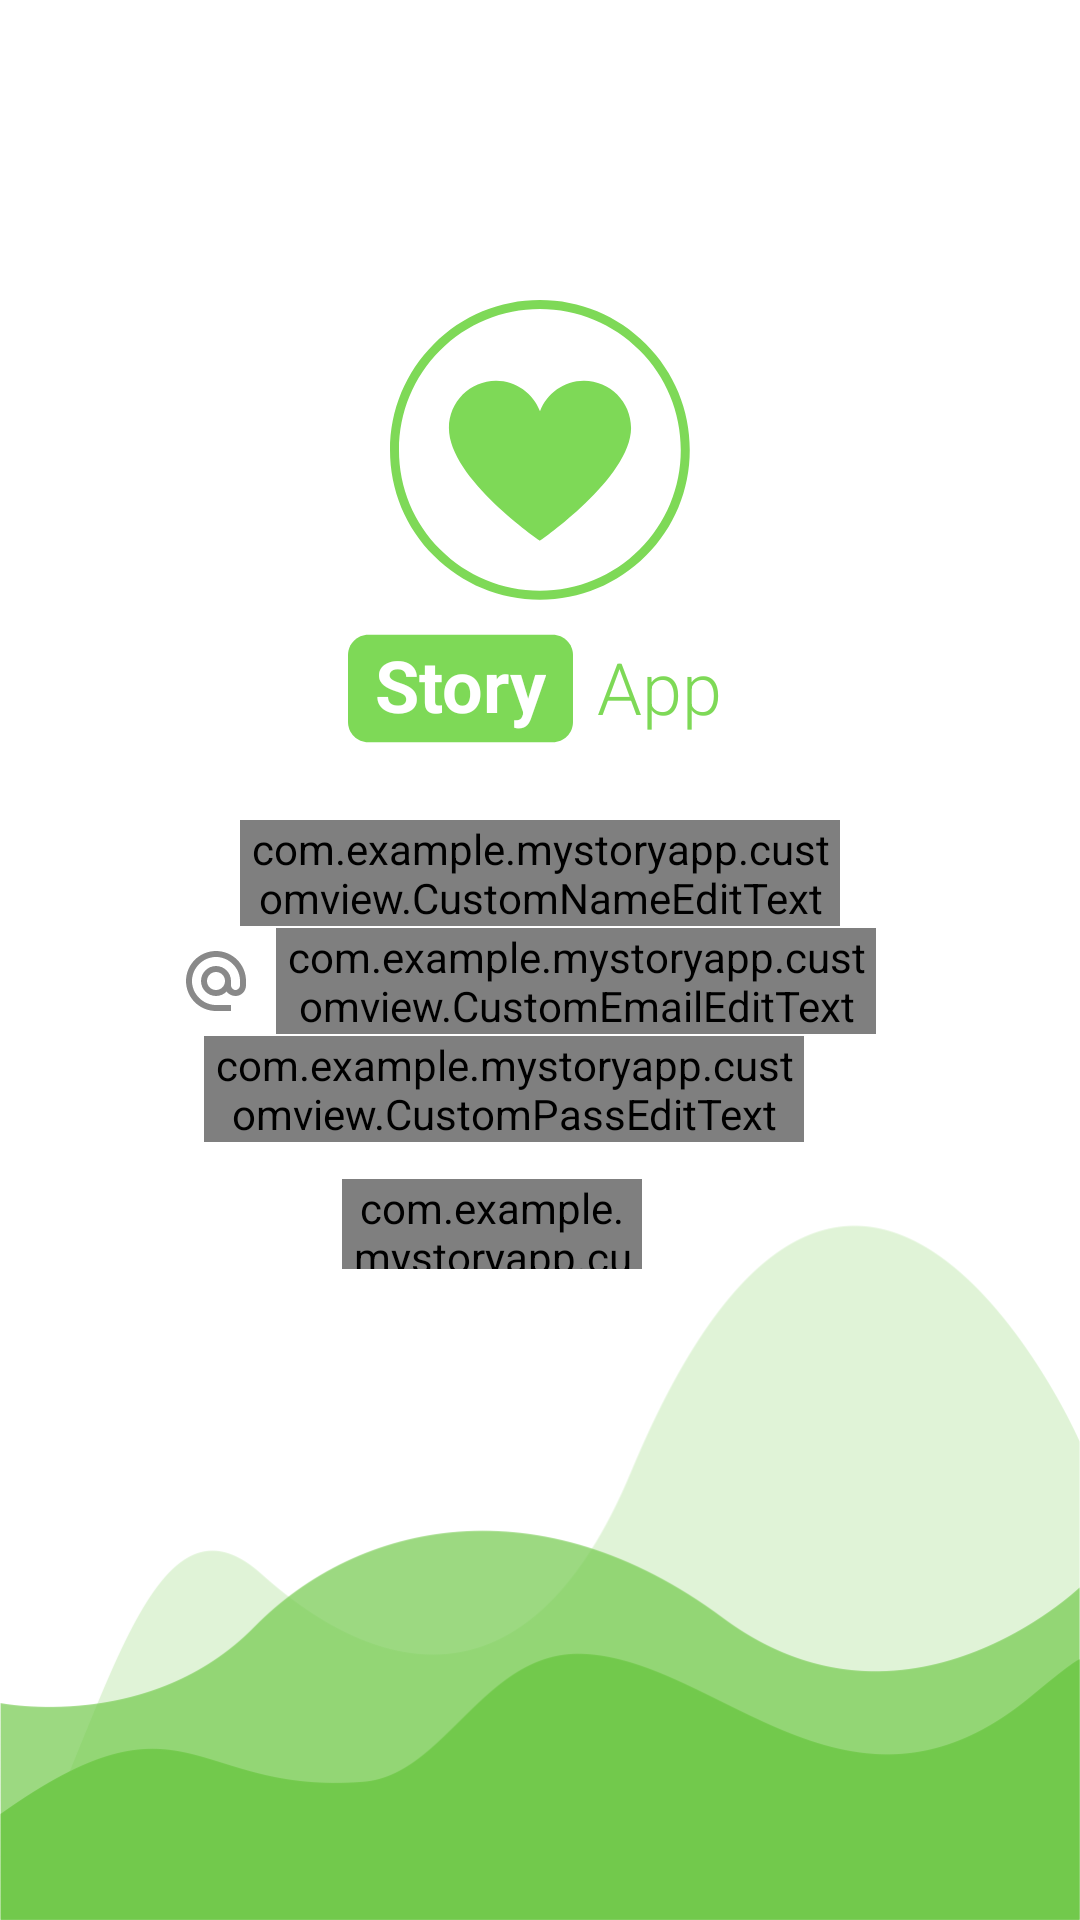

Named icons in this screenshot (1080 x 1920) and their bounding boxes, (x1, y1, x2, y2):
email icon section: (186, 951, 246, 1011)
